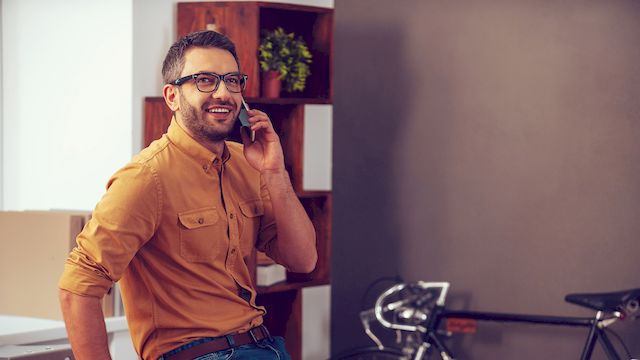phone: (231, 90, 260, 137)
talk: (190, 67, 286, 176)
